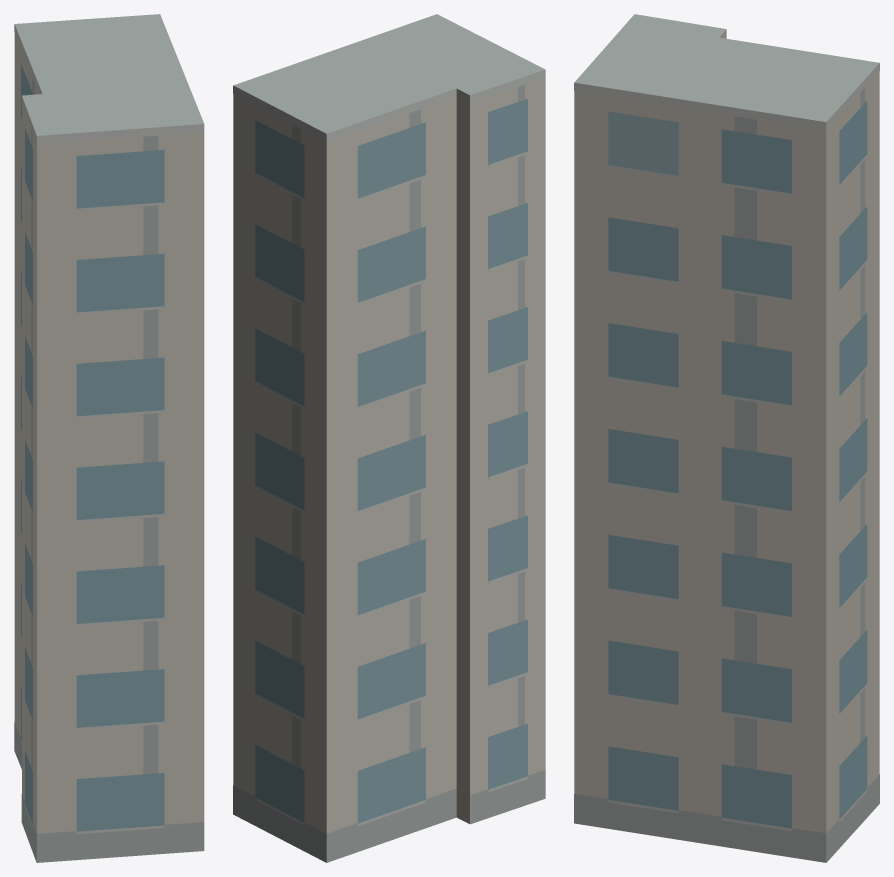
Rendered from survey-upis-32706649.glb.
The picture shows the model from 3 angles, left to right: view 1: azimuth 30°, elevation 25°; view 2: azimuth 150°, elevation 25°; view 3: azimuth 270°, elevation 25°; orthographic projection.
Visible parts, largest first — view 1: survey-upis-32706649.tmp; view 2: survey-upis-32706649.tmp; view 3: survey-upis-32706649.tmp.
Part boxes in pixels (x1,y1,x2,y2): survey-upis-32706649.tmp: (14, 14, 204, 862); survey-upis-32706649.tmp: (233, 14, 545, 862); survey-upis-32706649.tmp: (574, 14, 879, 862).
Bounding box in the file's own units: 6.69 × 21.35 × 7.99.
